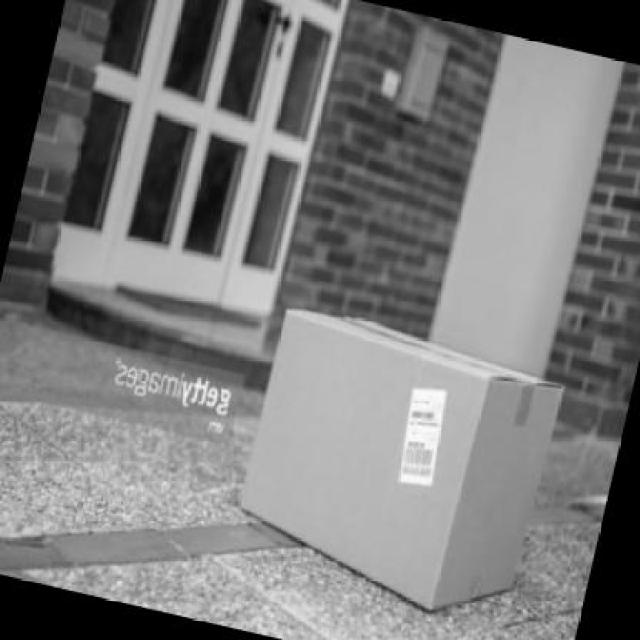box: (197, 295, 589, 640)
